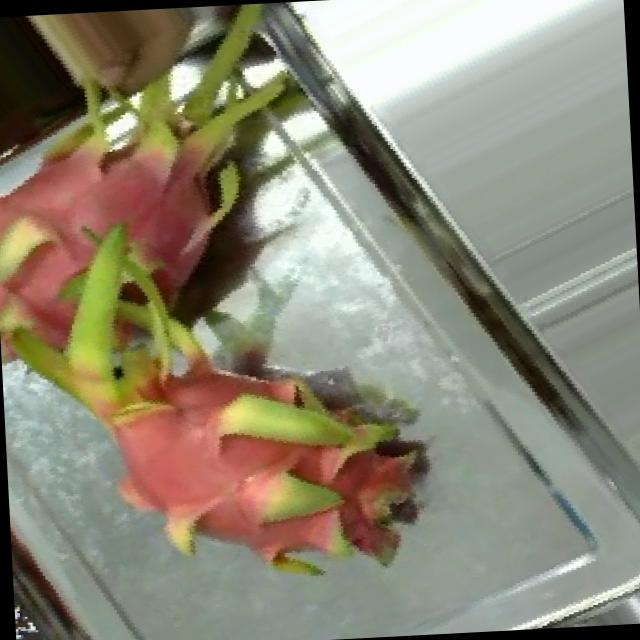Fruit: (306, 420, 458, 582)
